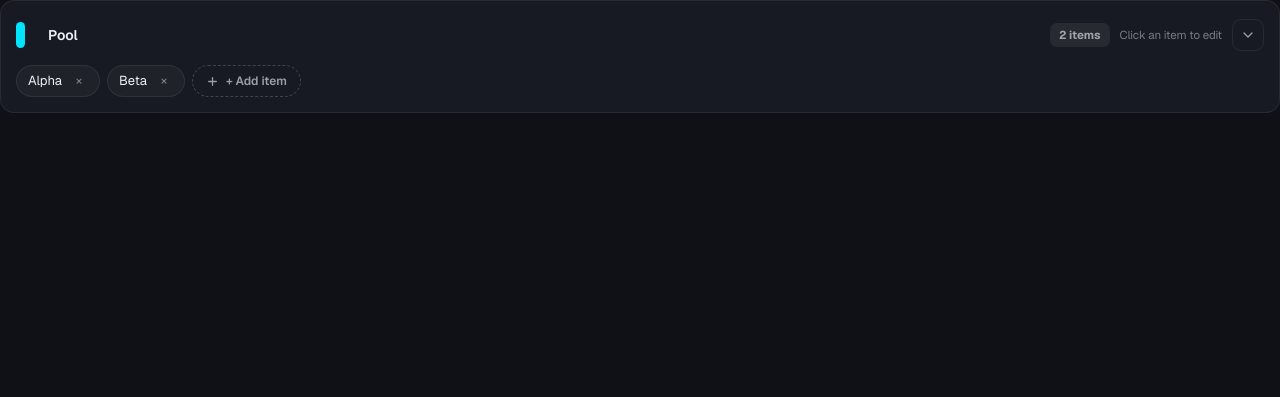
Scenario: GroupEditor progressive disclosure (T5) › switches straight from editing one chip to another without closing first
Click the button with aria-label "Edit Alpha".
click(45, 81)  # box [28, 71, 62, 91]
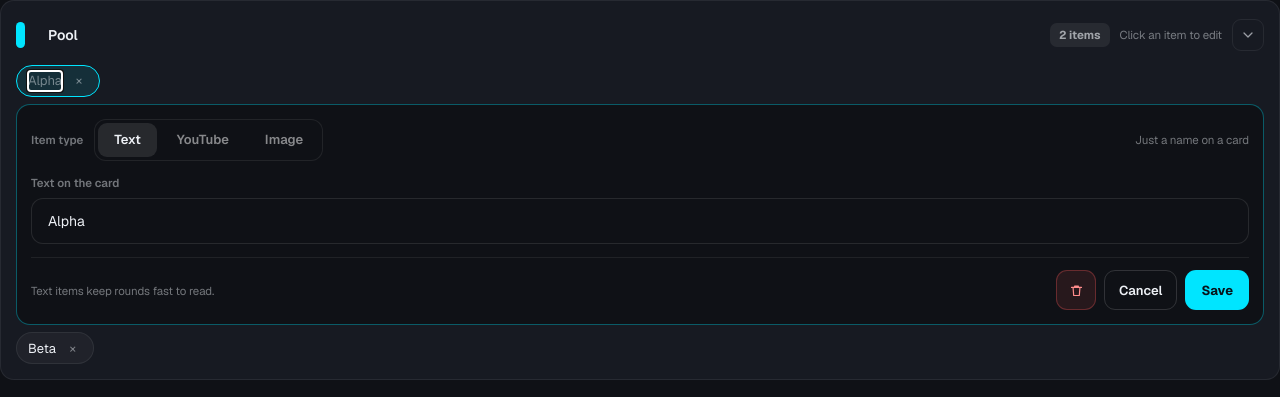
Check: the field named "Pool 1 new item" holds "Alpha", box [31, 198, 1249, 244]
Click the button with aria-label "Edit Beta".
click(42, 348)  # box [28, 338, 56, 358]
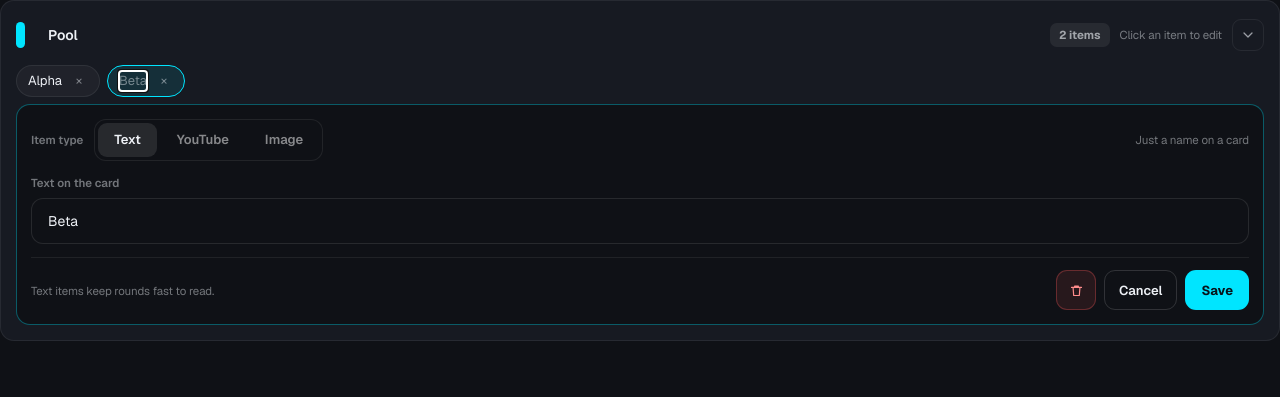
Check: the number of buttons "Save" is 1, box [1185, 270, 1249, 310]
Check: the field named "Pool 1 new item" holds "Beta", box [31, 198, 1249, 244]
